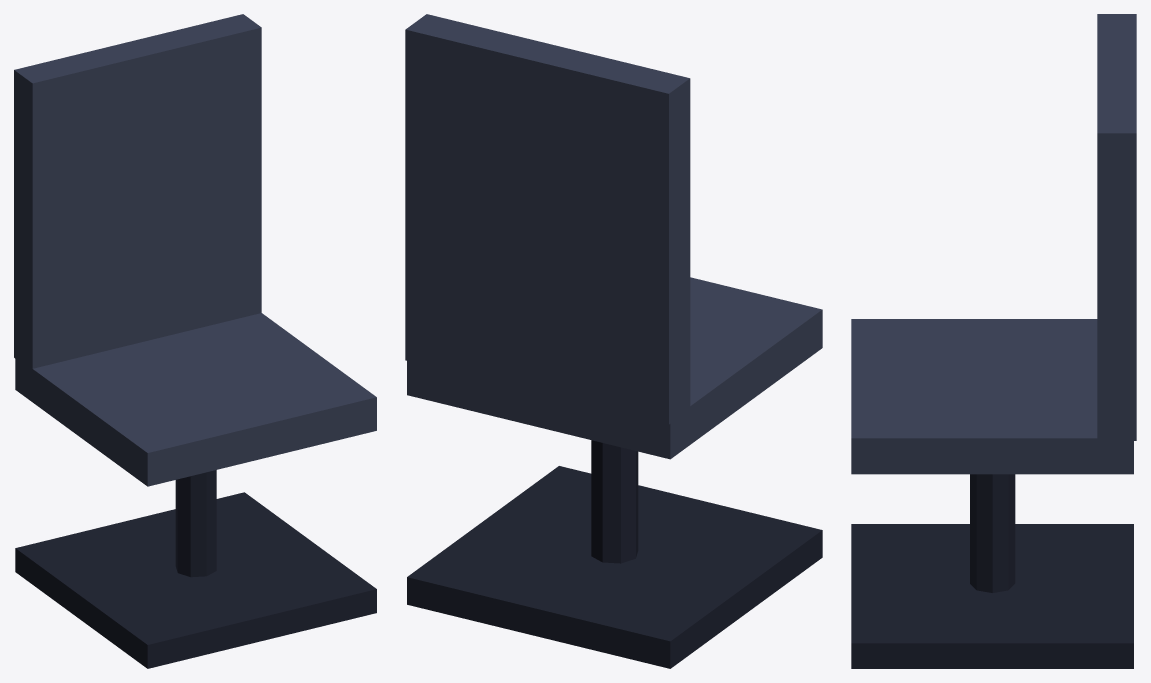
The model's file is chair.glb.
3 views of the same model, side by side, from view 1: azimuth 30°, elevation 25°; view 2: azimuth 150°, elevation 25°; view 3: azimuth 270°, elevation 25° (orthographic). The views are drawn at different scales.
Parts seen in each view (by area): view 1: back, seat, base, stem; view 2: back, base, seat, stem; view 3: seat, base, back, stem.
Part boxes in pixels (bbox=[...]): back: bbox=[14, 14, 261, 370]; seat: bbox=[15, 313, 376, 486]; base: bbox=[15, 492, 376, 668]; stem: bbox=[175, 470, 216, 577]; back: bbox=[405, 14, 690, 424]; base: bbox=[407, 466, 822, 668]; seat: bbox=[407, 277, 822, 459]; stem: bbox=[591, 440, 638, 563]; seat: bbox=[851, 319, 1133, 474]; base: bbox=[851, 524, 1133, 668]; back: bbox=[1097, 14, 1136, 440]; stem: bbox=[970, 474, 1015, 592].
Size of the model in its own units: 0.5 by 1.05 by 0.505.
